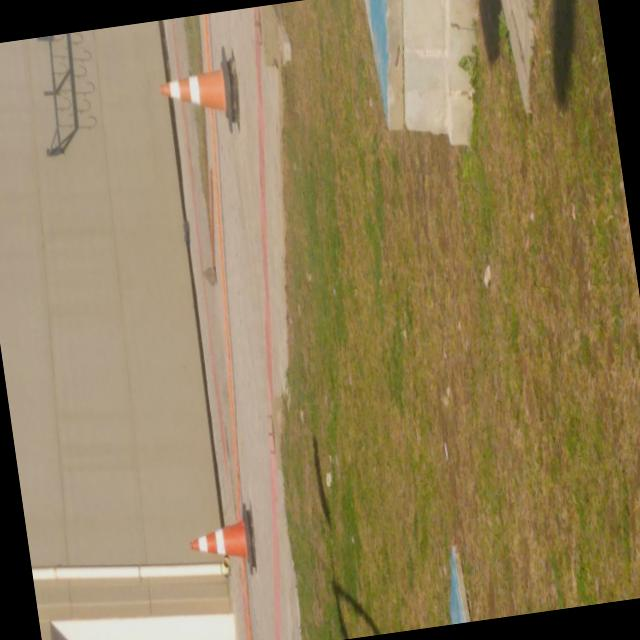cone: (147, 44, 248, 140), (178, 488, 264, 594)
